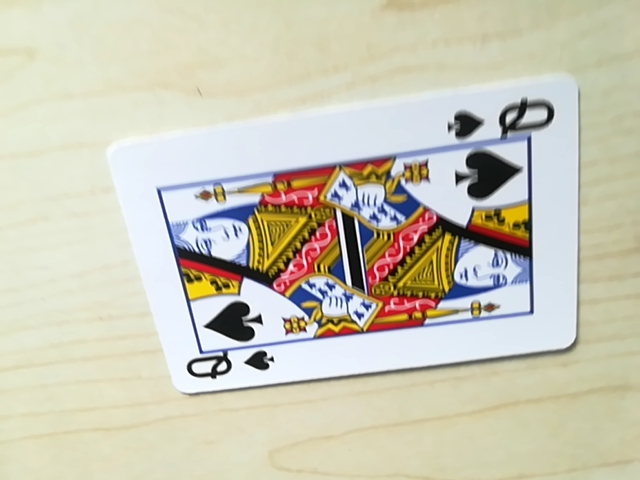ht q: (442, 94, 556, 143), (179, 345, 273, 393)
